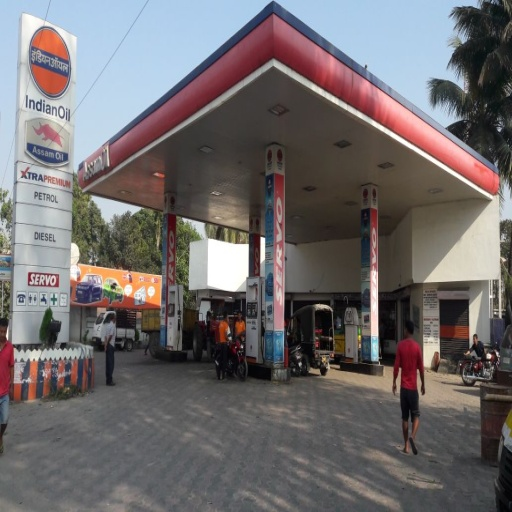roof: (77, 11, 501, 239)
